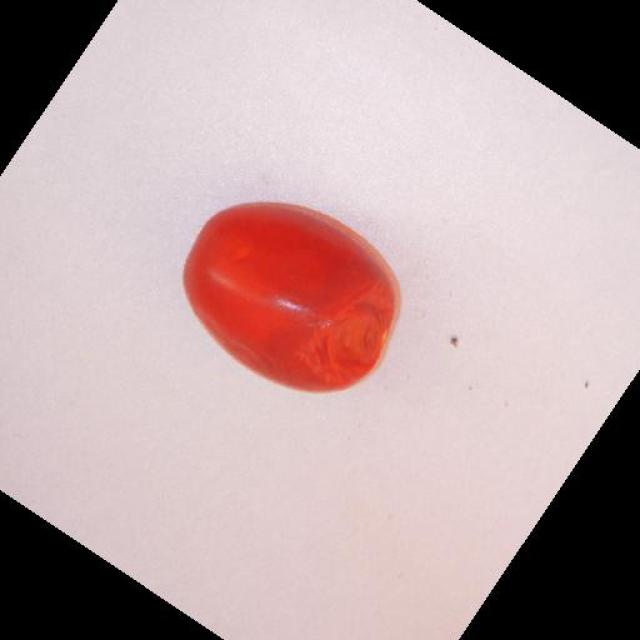Stale_tomato: (191, 184, 417, 382)
